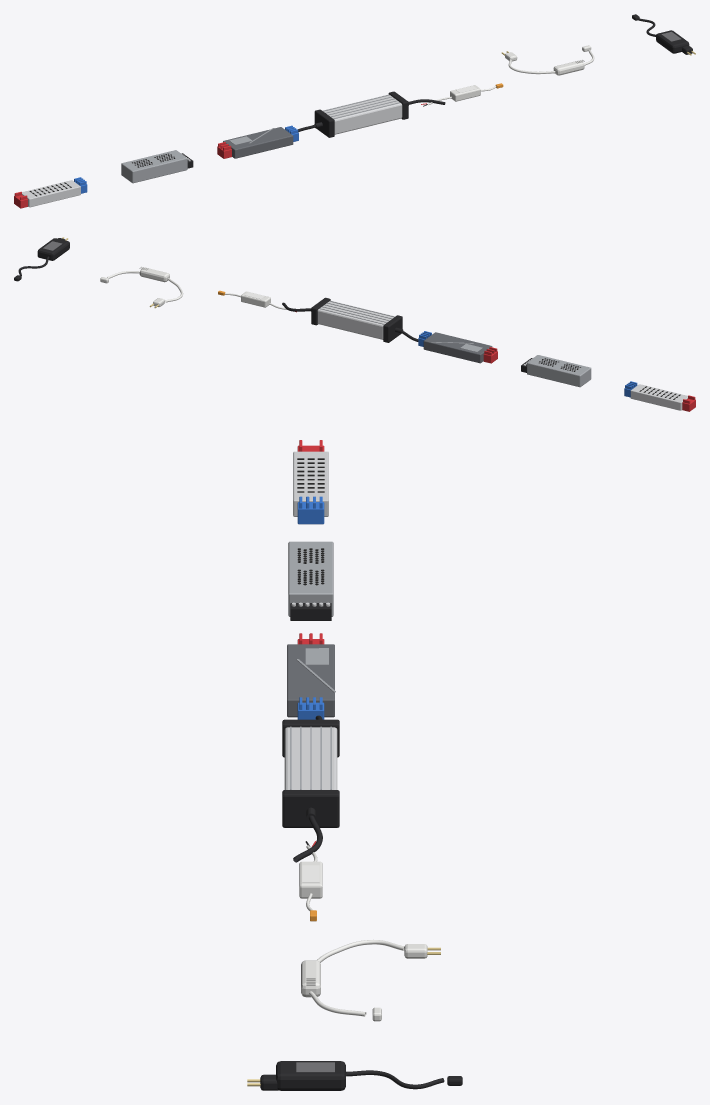
The model's file is psu.glb.
3 renders of one model, top to bottom at view 1: azimuth 30°, elevation 25°; view 2: azimuth 150°, elevation 25°; view 3: azimuth 270°, elevation 25°, orthographic. The views are drawn at different scales.
Parts seen in each view (by area): view 1: RAI_body, SIL_body, MEG_body, VIT_body, RAI_cab1, COD_l1, RGB_body, RAI_rib0, DRV_body; view 2: RAI_body, SIL_body, MEG_body, VIT_body, RAI_cab1, COD_l1, RGB_body, RAI_rib0, DRV_body; view 3: RAI_cab1, RAI_body, SIL_body, RGB_body, MEG_body, COD_l1, VIT_body.
Part boxes in pixels (bbox=[...]): RAI_body: bbox=[322, 94, 402, 134]; SIL_body: bbox=[121, 150, 187, 183]; MEG_body: bbox=[223, 127, 293, 158]; VIT_body: bbox=[22, 180, 80, 207]; RAI_cab1: bbox=[298, 91, 445, 137]; COD_l1: bbox=[505, 45, 594, 75]; RGB_body: bbox=[632, 14, 692, 54]; RAI_rib0: bbox=[323, 94, 400, 118]; DRV_body: bbox=[428, 85, 496, 105]; RAI_body: bbox=[317, 300, 394, 339]; SIL_body: bbox=[527, 355, 591, 387]; MEG_body: bbox=[423, 332, 492, 363]; VIT_body: bbox=[630, 384, 687, 410]; RAI_cab1: bbox=[282, 297, 418, 342]; COD_l1: bbox=[100, 267, 183, 306]; RGB_body: bbox=[14, 238, 69, 281]; RAI_rib0: bbox=[319, 301, 394, 324]; DRV_body: bbox=[225, 291, 286, 309]; RAI_cab1: bbox=[282, 715, 339, 862]; RAI_body: bbox=[284, 727, 337, 789]; SIL_body: bbox=[288, 541, 333, 616]; RGB_body: bbox=[260, 1061, 462, 1090]; MEG_body: bbox=[287, 644, 334, 717]; COD_l1: bbox=[301, 939, 427, 1021]; VIT_body: bbox=[293, 451, 328, 516].
Size of the model in its own units: 1.92 by 0.048 by 0.277.
